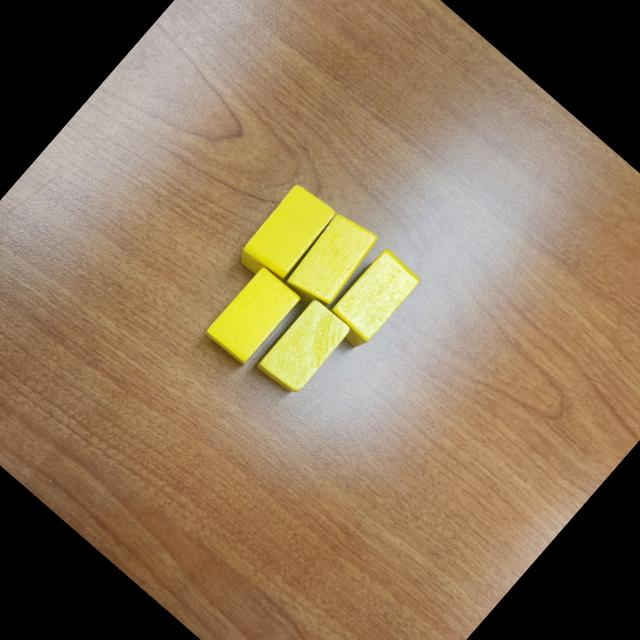yellow: (232, 180, 340, 292), (277, 206, 384, 318), (321, 246, 424, 353), (254, 295, 354, 399), (204, 264, 302, 366)
